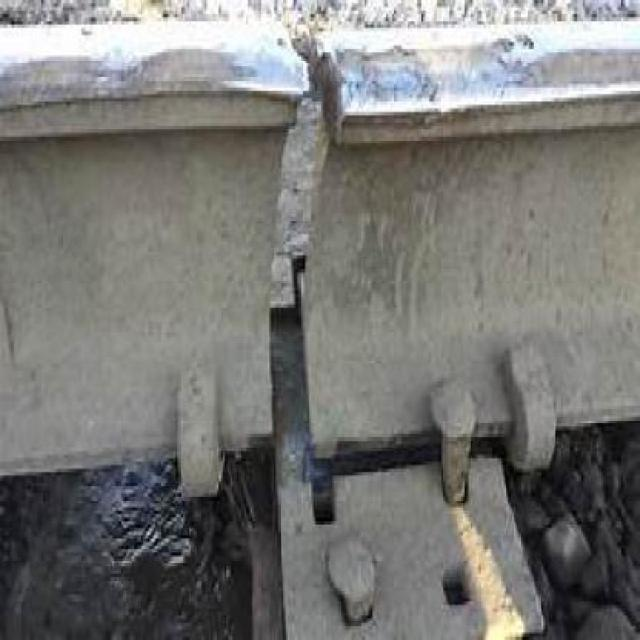defective: (156, 0, 440, 567)
